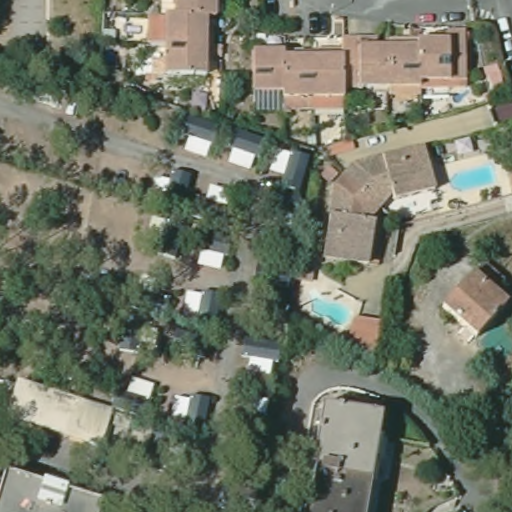pool: (305, 292, 355, 328), (449, 166, 498, 191)
